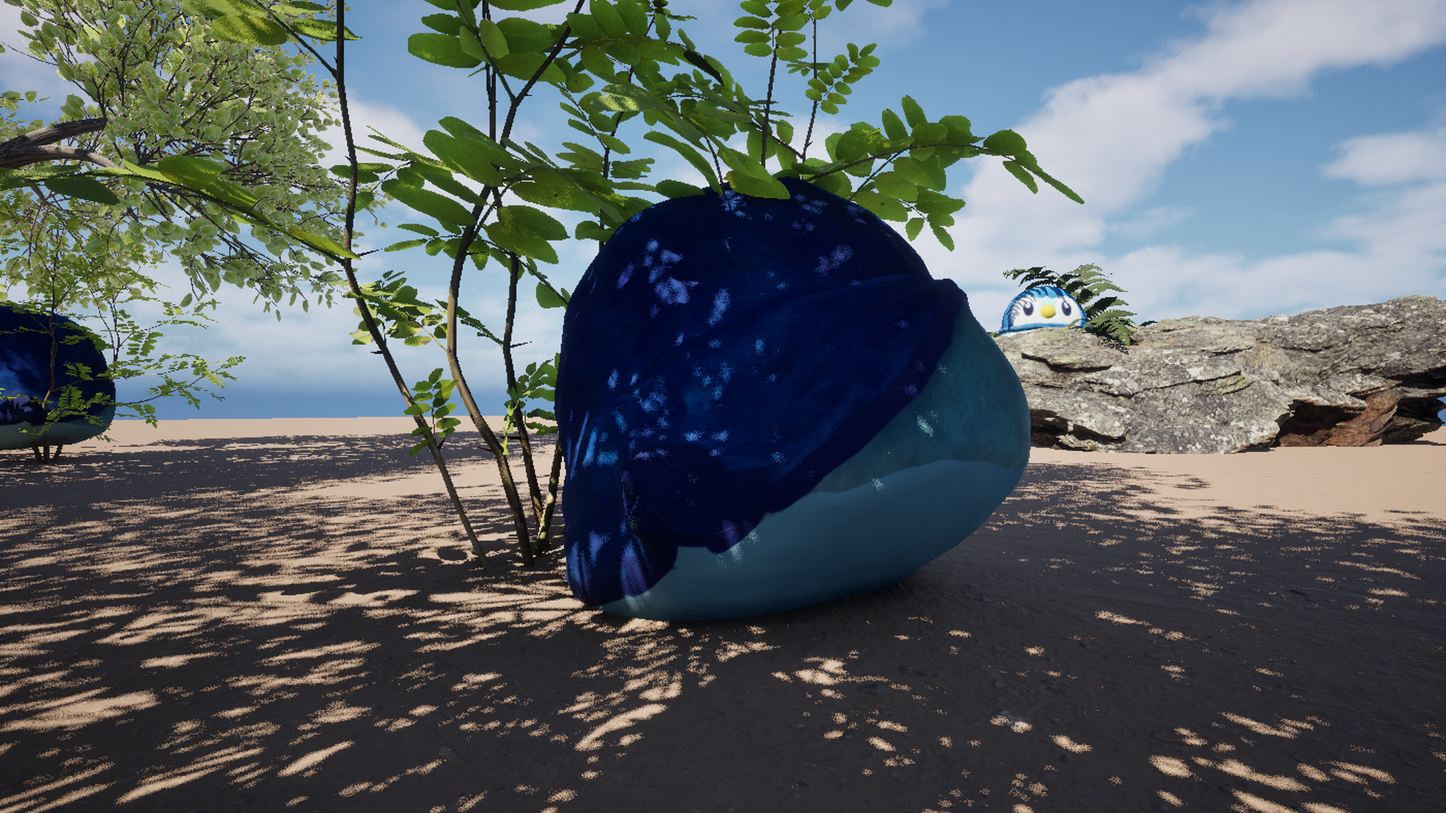Piplup: (344, 0, 1121, 813)
